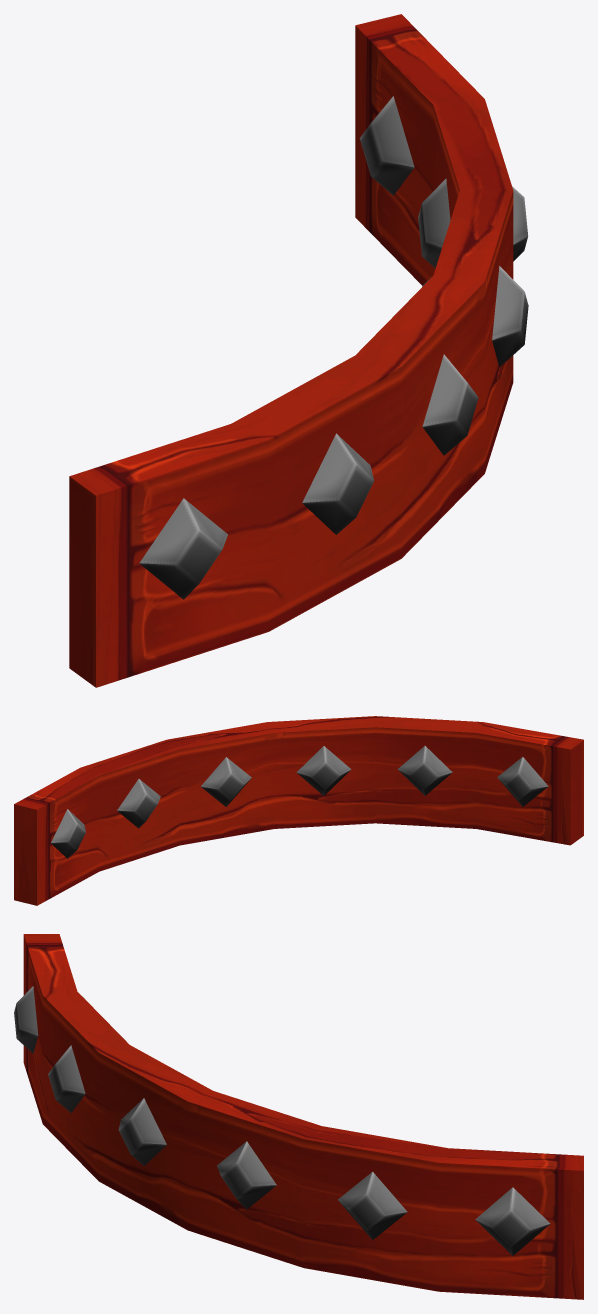
The model's file is arched_fence_red_04.fbx.
3 views of the same model, one above another, from view 1: azimuth 30°, elevation 25°; view 2: azimuth 150°, elevation 25°; view 3: azimuth 270°, elevation 25° (orthographic). The views are drawn at different scales.
Visible parts, largest first — view 1: arched_fence_red_04; view 2: arched_fence_red_04; view 3: arched_fence_red_04.
Part boxes in pixels (x1,y1,x2,y2): arched_fence_red_04: [69, 14, 528, 687]; arched_fence_red_04: [14, 716, 583, 905]; arched_fence_red_04: [14, 934, 583, 1299].
Size of the model in its own units: 160 by 40 by 160.
